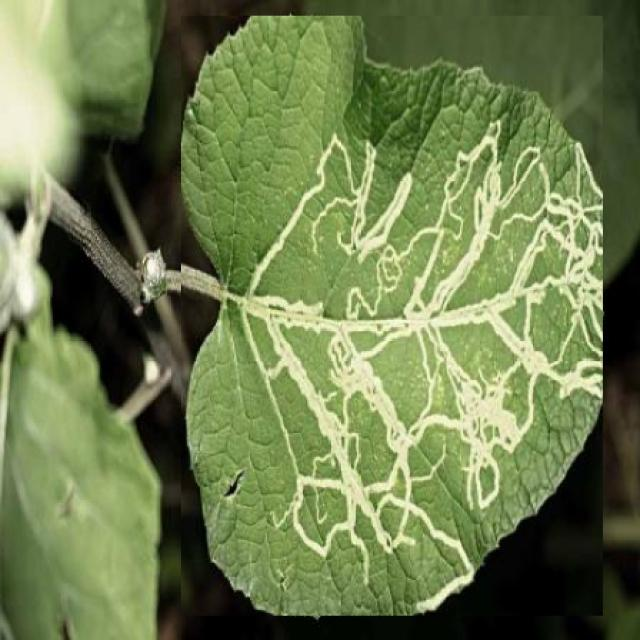Leaf Miner: (181, 16, 604, 616)
